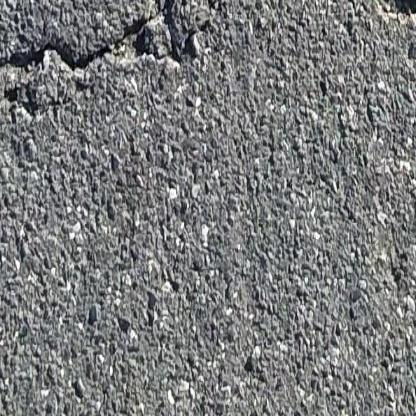Cracks: (0, 0, 209, 110), (5, 83, 50, 129), (345, 0, 416, 21)
